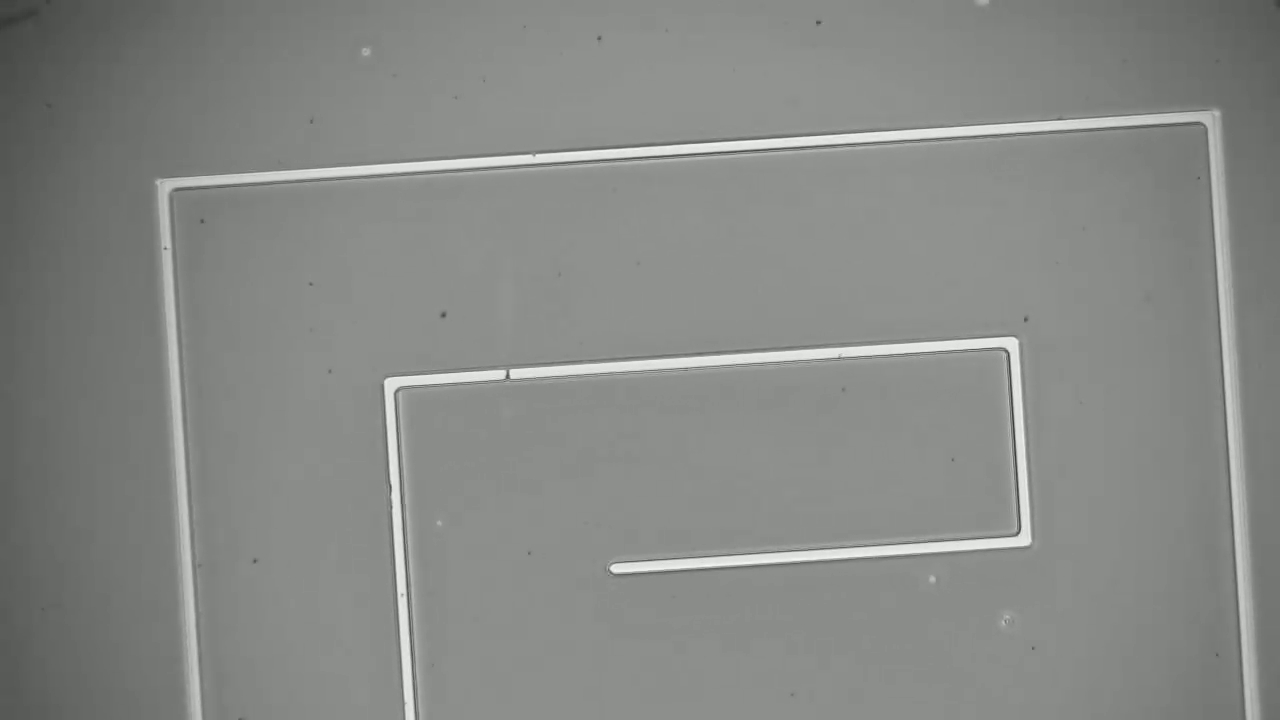stains_enbedded: (499, 366, 515, 385)
